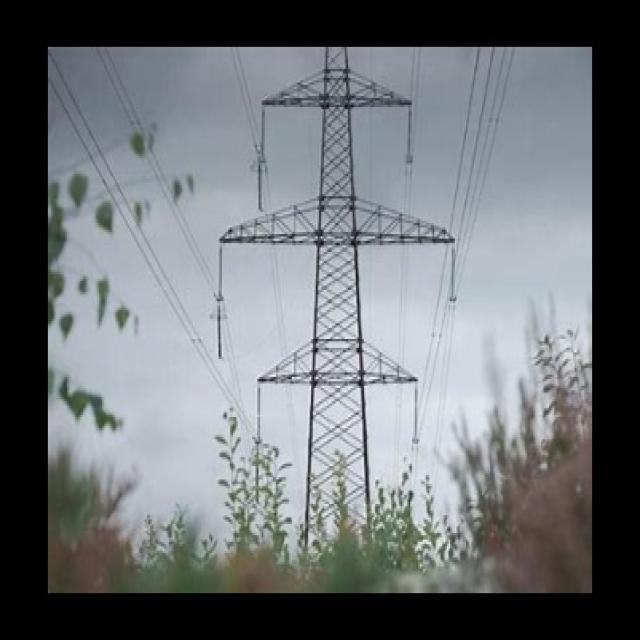utility poles: (227, 348, 433, 592)
